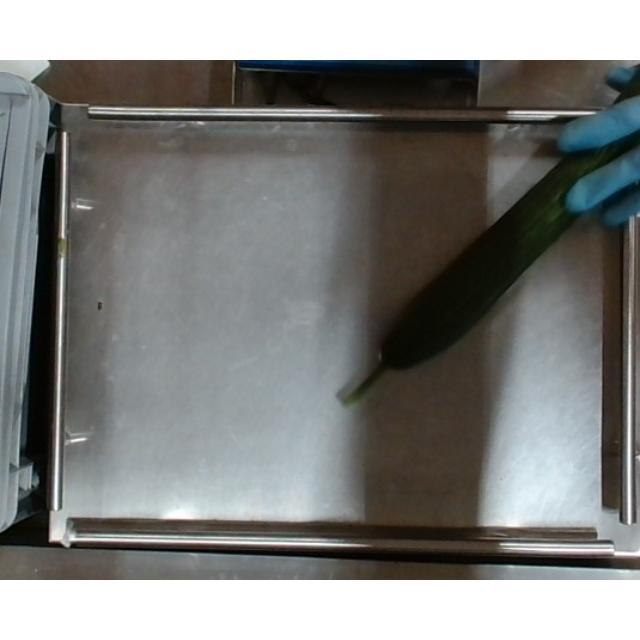cucumber: (340, 136, 624, 407)
